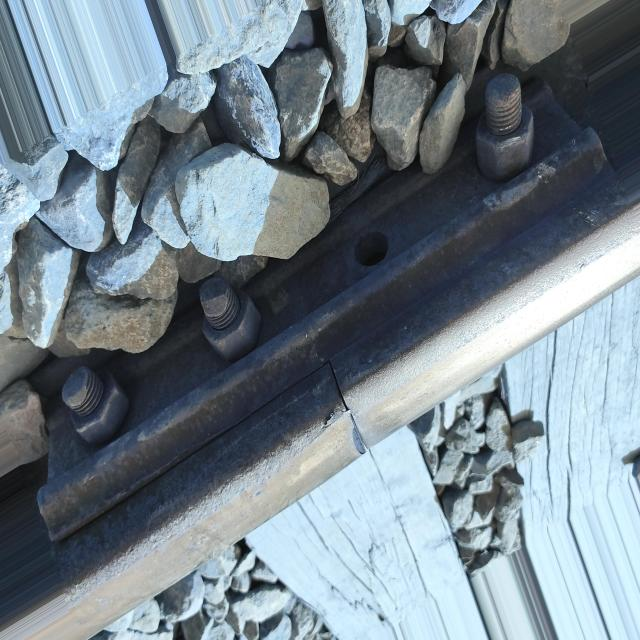crack: (311, 314, 385, 498)
